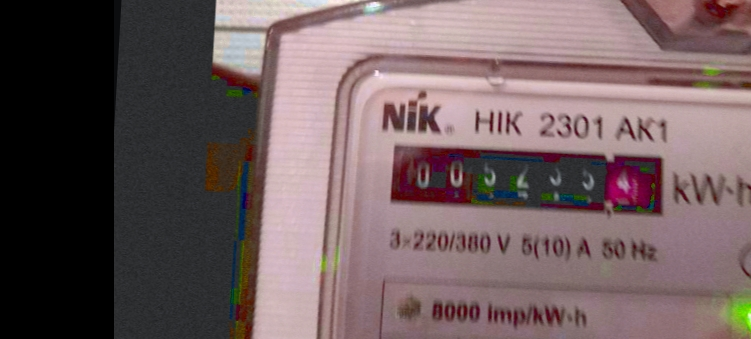0: (447, 153, 469, 187), (415, 155, 435, 187)
2: (513, 154, 536, 189)
3: (545, 154, 571, 188)
4: (614, 158, 638, 195)
5: (579, 155, 603, 192), (481, 153, 502, 187)
screen: (375, 124, 681, 228)
